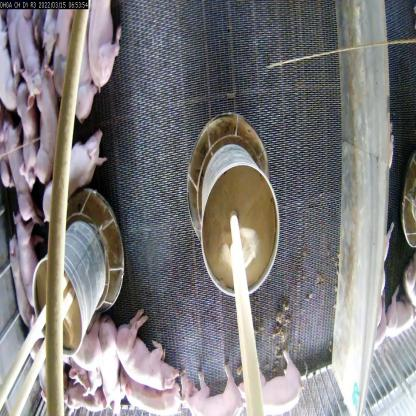Pig: (37, 122, 113, 233), (79, 0, 124, 103), (114, 320, 177, 386), (60, 14, 95, 125), (179, 363, 248, 415), (234, 368, 309, 415), (31, 75, 62, 180), (13, 212, 41, 313), (4, 246, 30, 330), (4, 122, 28, 209), (96, 322, 121, 403), (135, 391, 185, 415)
